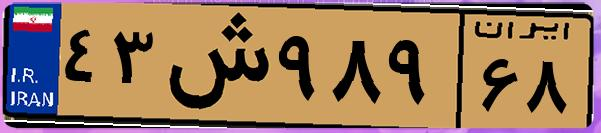3: (110, 28, 158, 98)
4: (57, 26, 110, 100)
6: (475, 38, 525, 113)
8: (330, 28, 385, 110), (525, 38, 570, 115)
9: (270, 28, 330, 110), (385, 28, 445, 110)
ش: (158, 12, 270, 120)
